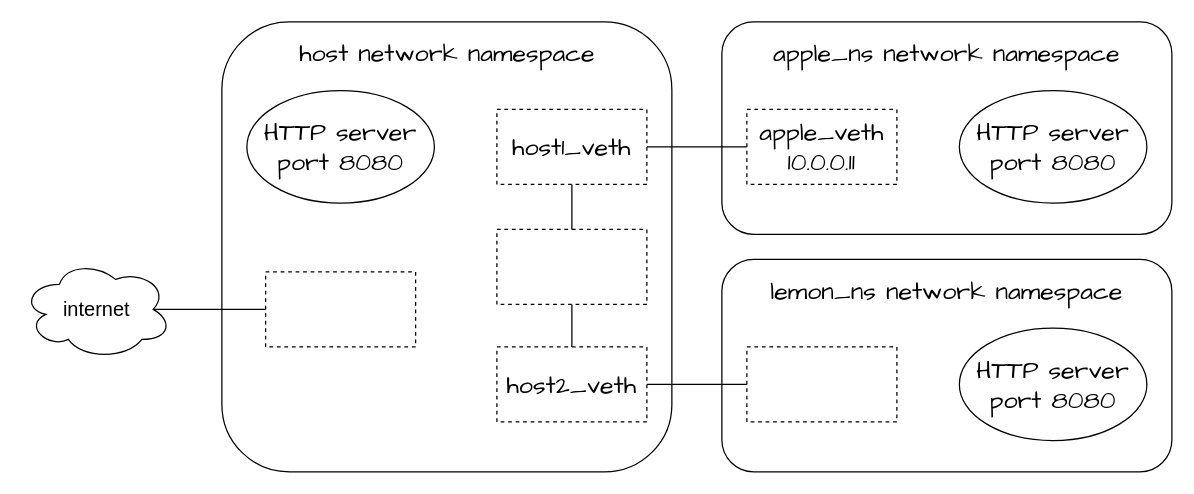
This 1194x494 diagram has some shape labels left out. Here are the shapes that lost their labels. From the top down, the centre of each, then its label:
At point 571,266: "host_bridge 10.0.0.1".
At point 340,309: "enp0s7 192.168.64.4".
At point 821,384: "lemon_veth 10.0.0.21".
